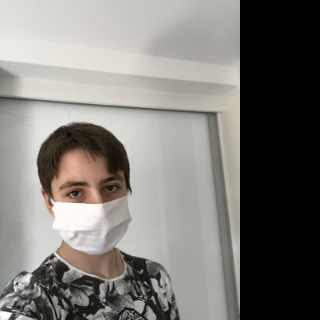with_mask: (49, 170, 132, 255)
